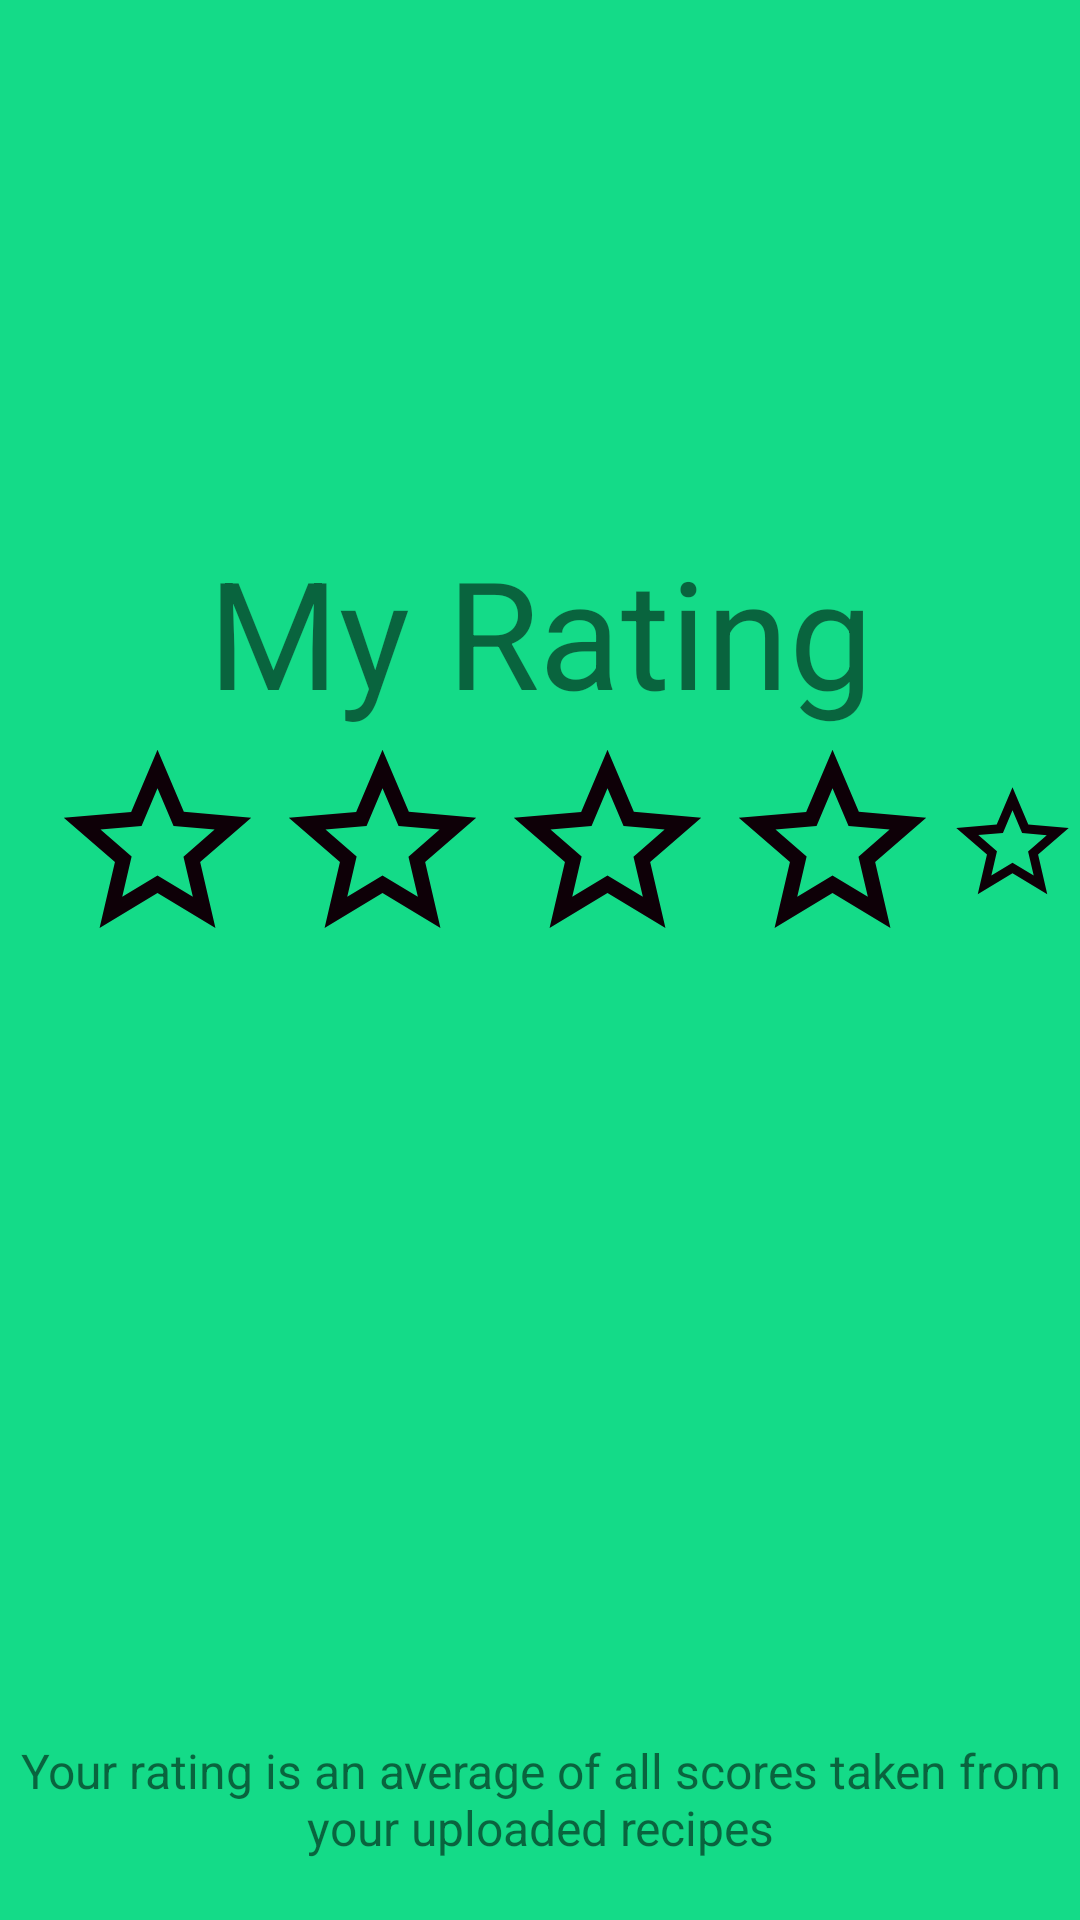

Named icons in this screenshot (1080 × 1920) and their centers, (x,y):
star: (157,839), (382,839), (607,839), (832,839), (1012,840)
